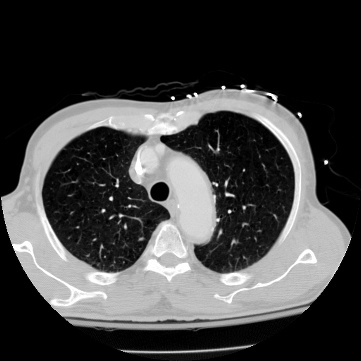PN: (139, 237, 143, 241)
